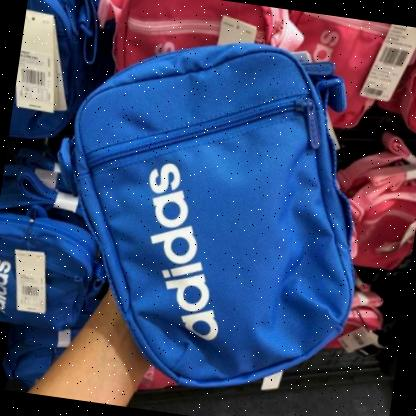bag: (27, 10, 394, 412)
